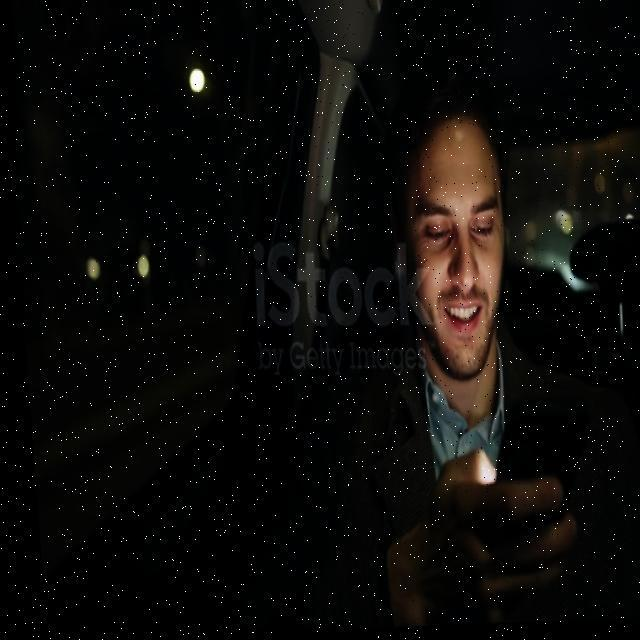PhoneCall: (482, 402, 590, 550)
